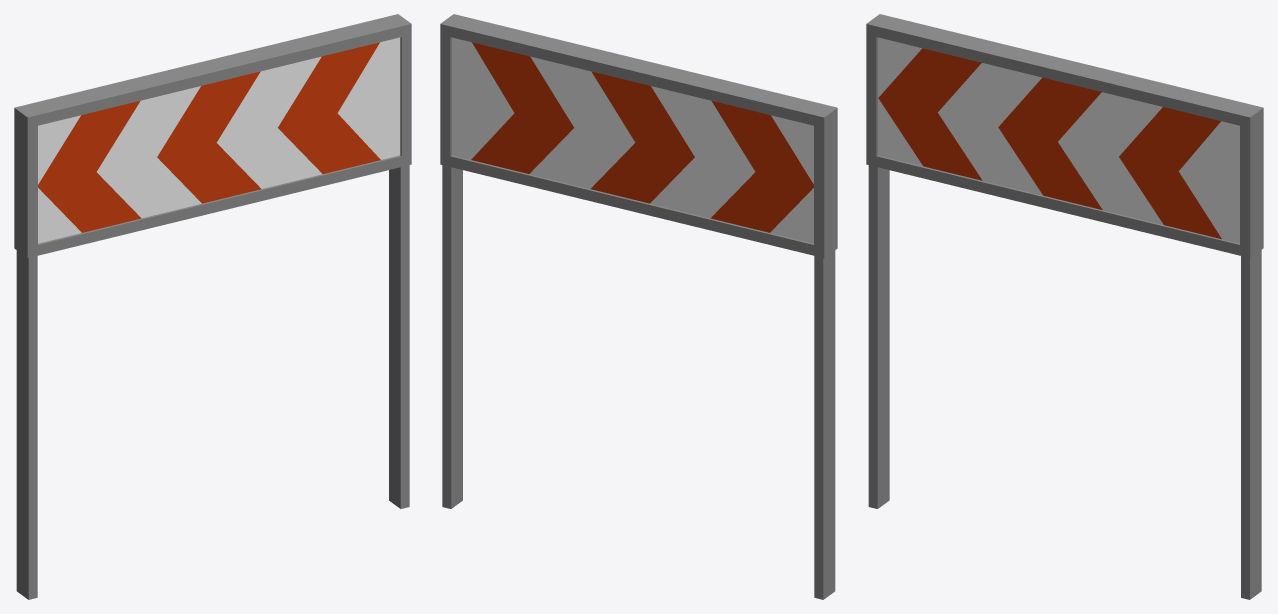
Rendered from prp_4.fbx.
3 renders of one model, left to right at view 1: azimuth 30°, elevation 25°; view 2: azimuth 150°, elevation 25°; view 3: azimuth 330°, elevation 25°, orthographic.
Parts seen in each view (by area): view 1: pCube5; view 2: pCube5; view 3: pCube5.
Boxes of the visible parts, box(x1,y1,x2,y2) form: pCube5: box(14, 14, 411, 599); pCube5: box(440, 14, 837, 599); pCube5: box(866, 14, 1263, 599).
Size of the model in its own units: 6.79 by 8.17 by 0.4143.
